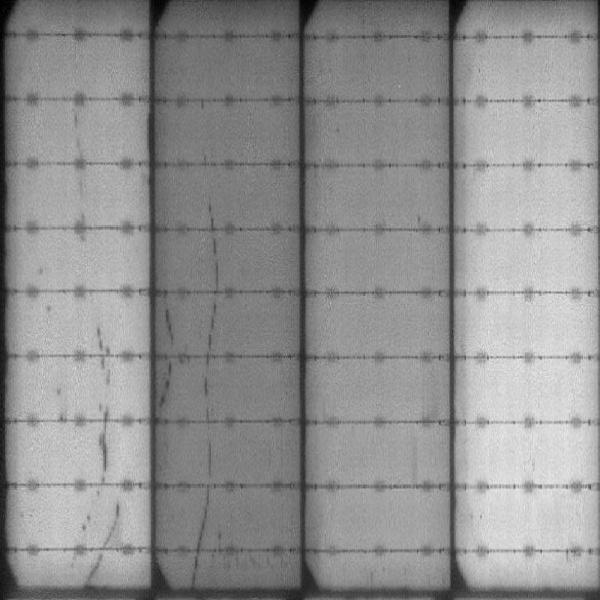scratch: (86, 503, 125, 585), (205, 203, 224, 354), (200, 354, 218, 480), (95, 327, 109, 471), (67, 109, 88, 203), (160, 304, 171, 407), (196, 486, 211, 550), (185, 552, 202, 585)
